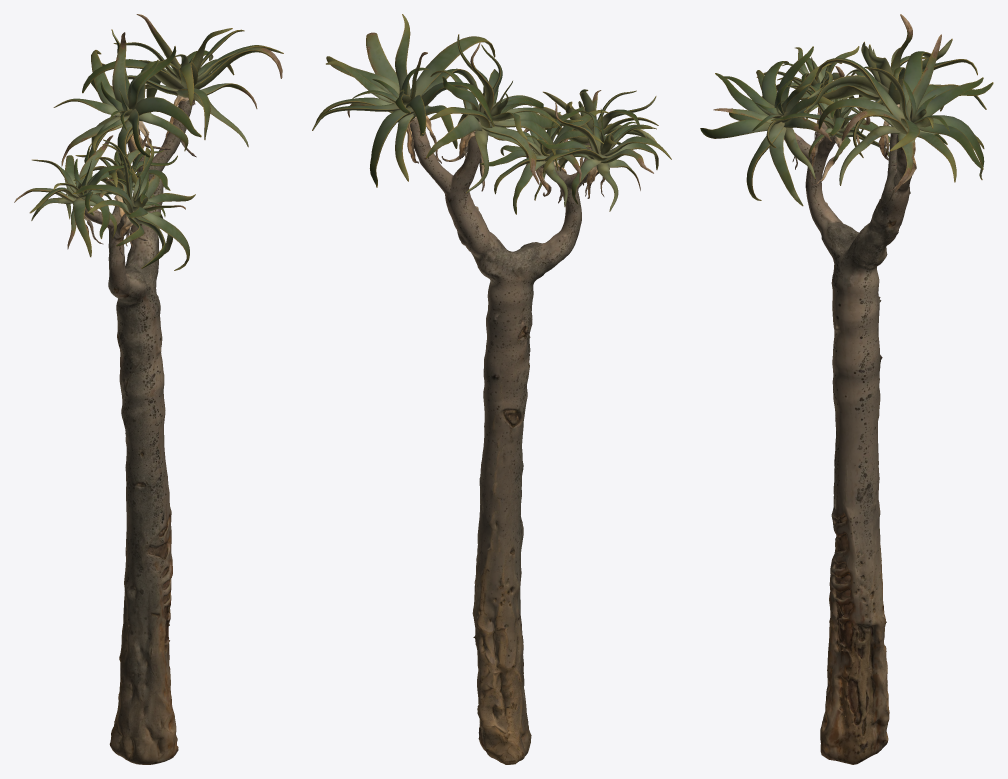
Rendered from polyhaven-quiver-tree-01.glb.
3 views of the same model, side by side, from view 1: azimuth 30°, elevation 25°; view 2: azimuth 150°, elevation 25°; view 3: azimuth 270°, elevation 25° (orthographic). The views are drawn at different scales.
Visible parts, largest first — view 1: quiver_tree_01_0, quiver_tree_01_1; view 2: quiver_tree_01_0, quiver_tree_01_1; view 3: quiver_tree_01_0, quiver_tree_01_1.
Boxes of the visible parts, x1=… form: quiver_tree_01_0: x1=76, y1=100, x2=192, y2=764; quiver_tree_01_1: x1=14, y1=14, x2=283, y2=270; quiver_tree_01_0: x1=410, y1=119, x2=598, y2=764; quiver_tree_01_1: x1=312, y1=14, x2=671, y2=214; quiver_tree_01_0: x1=784, y1=110, x2=911, y2=764; quiver_tree_01_1: x1=700, y1=14, x2=993, y2=206.
Size of the model in its own units: 1.18 by 2.72 by 0.9685.
2 materials, 2 textured.
